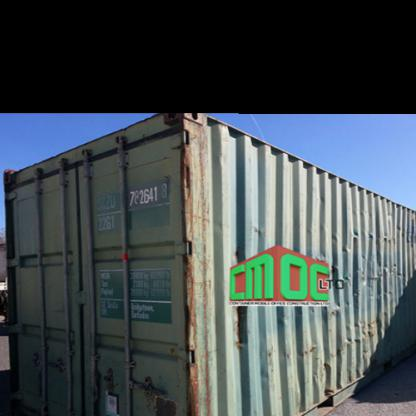Damage: (174, 110, 218, 415), (354, 261, 408, 295), (342, 320, 383, 354), (308, 356, 336, 400), (232, 298, 250, 358), (346, 229, 400, 243), (327, 298, 349, 322)
